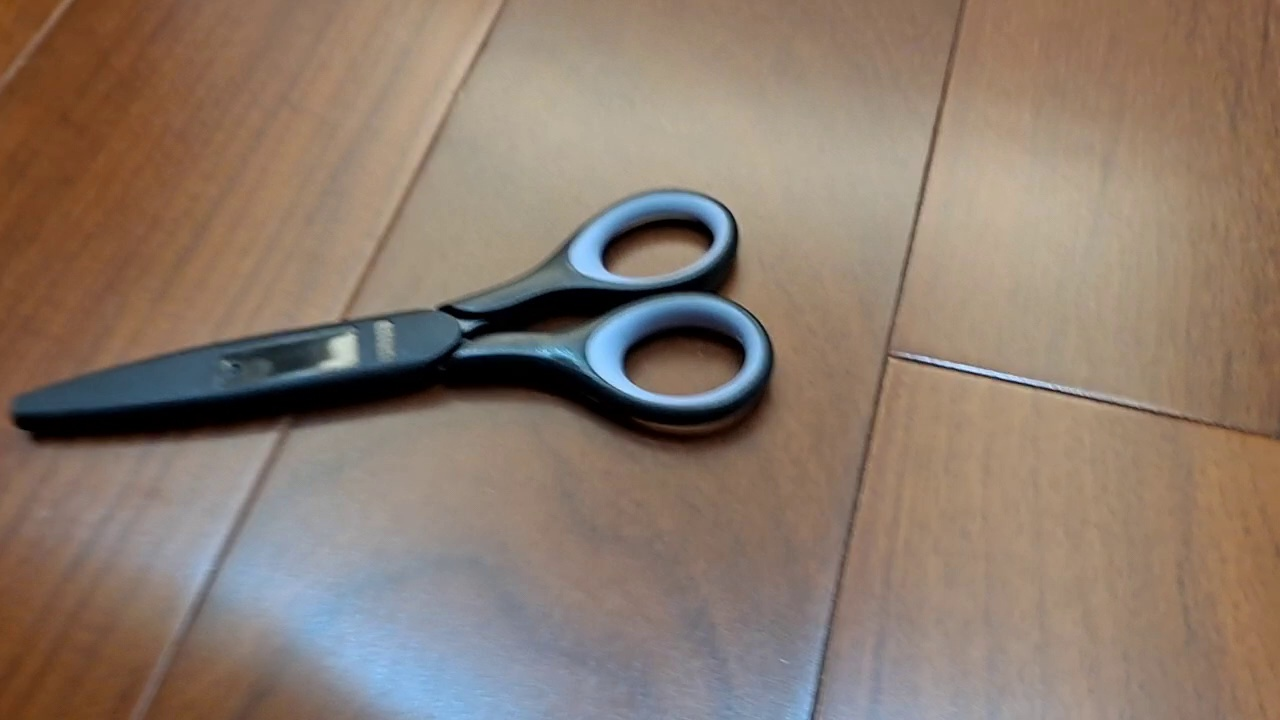scissors: (9, 185, 776, 445)
